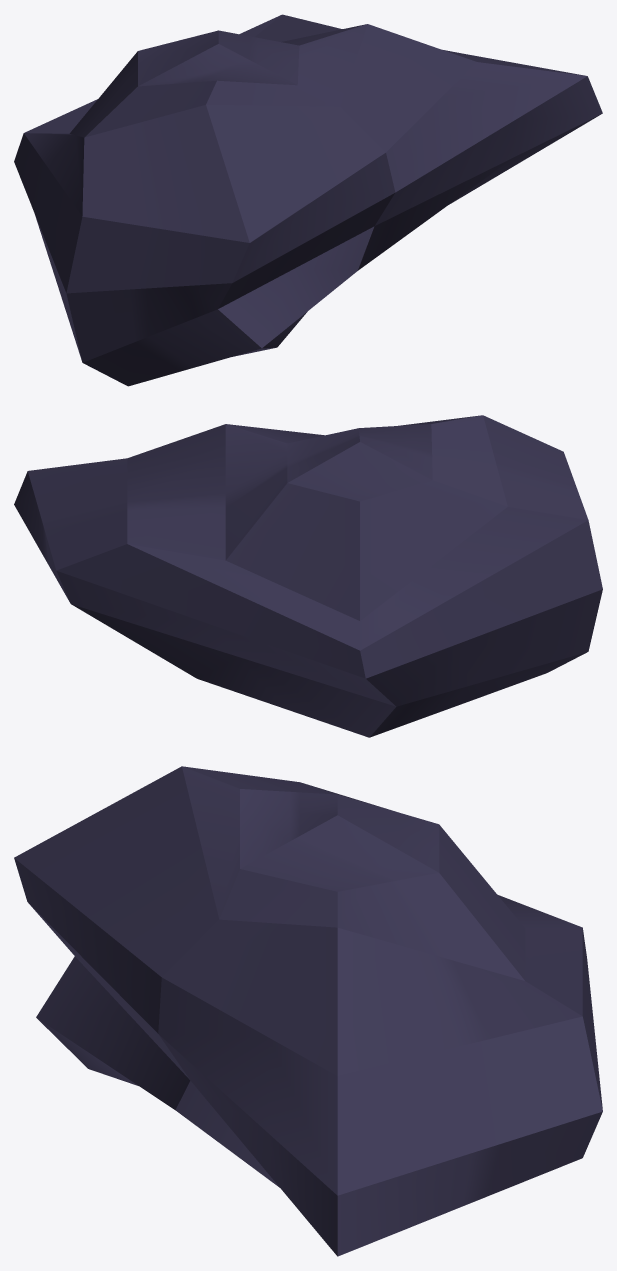
The model's file is Clouds_Big_Night.fbx.
3 renders of one model, top to bottom at view 1: azimuth 30°, elevation 25°; view 2: azimuth 150°, elevation 25°; view 3: azimuth 270°, elevation 25°, orthographic. The views are drawn at different scales.
Visible parts, largest first — view 1: pasted__pSphere3; view 2: pasted__pSphere3; view 3: pasted__pSphere3.
Part boxes in pixels (x1,y1,x2,y2): pasted__pSphere3: [14, 14, 602, 386]; pasted__pSphere3: [14, 415, 602, 737]; pasted__pSphere3: [14, 766, 602, 1256].
Bounding box in the file's own units: 34.97 × 16.07 × 23.82.
